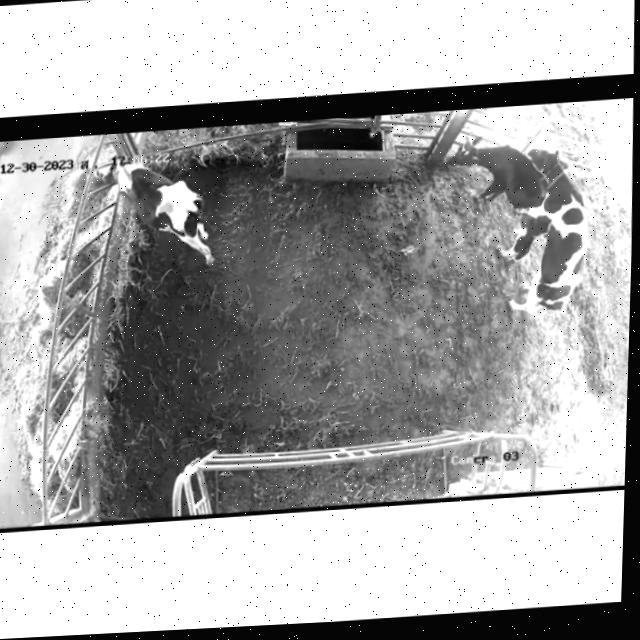eat: (71, 145, 139, 214)
ride: (521, 138, 604, 326)
stand: (442, 127, 546, 269)
